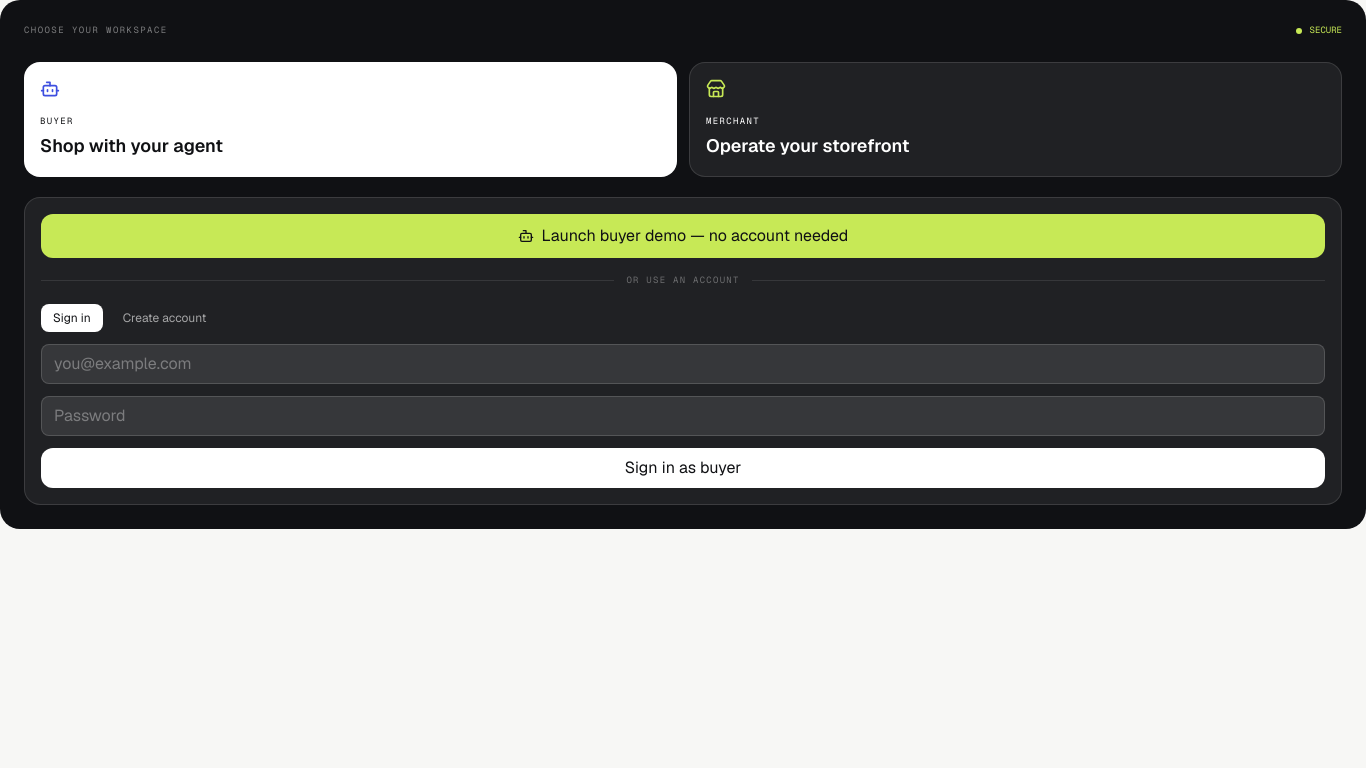
Test case: workspace authentication › opens the explicit passkey challenge when passkey status is unavailable
This screenshot has width=1366, height=768.
Type "buyer@example.com" into the field named "Email". click: (683, 364)
box: x1=41 y1=344 x2=1325 y2=384
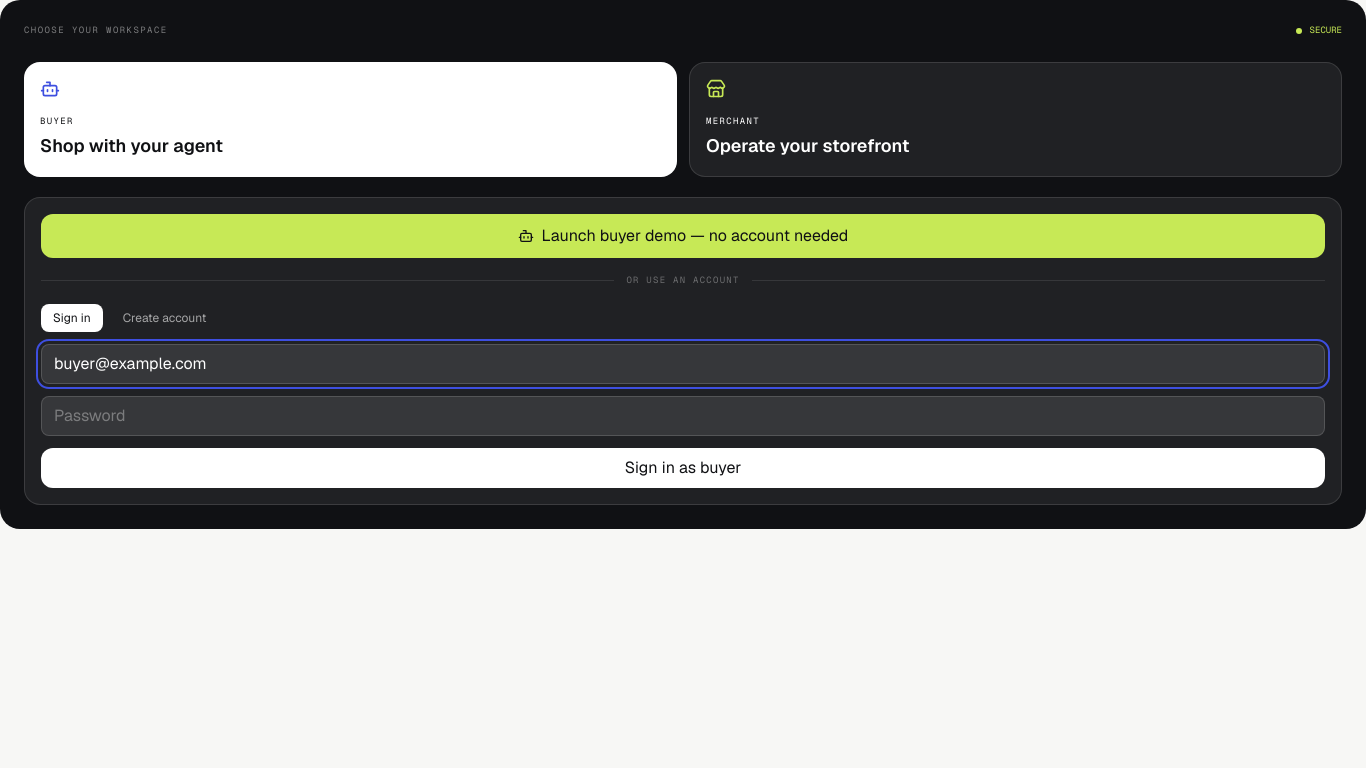
Type "password123" into the password field labelled "Password". click: (683, 416)
box: x1=41 y1=396 x2=1325 y2=436
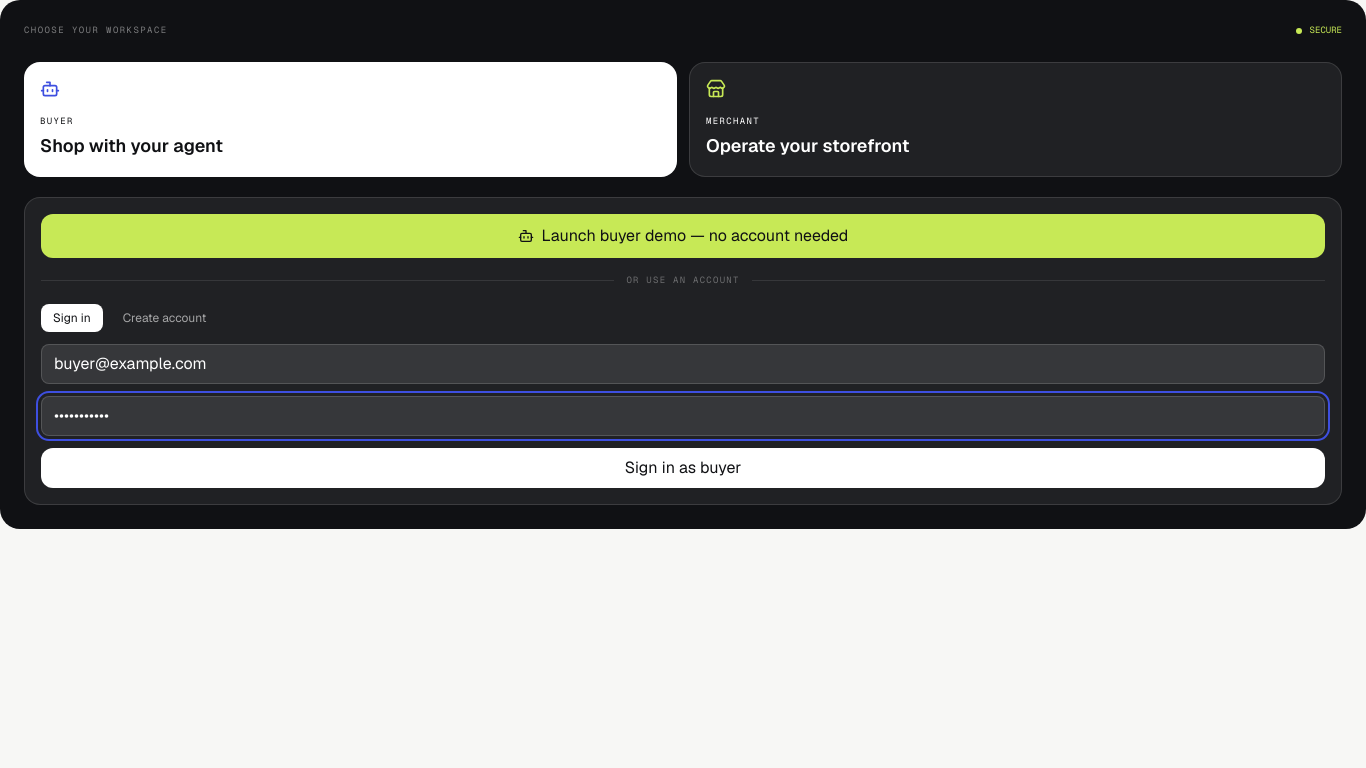
Click the button "Sign in as buyer". click: (683, 468)
box: x1=41 y1=448 x2=1325 y2=488
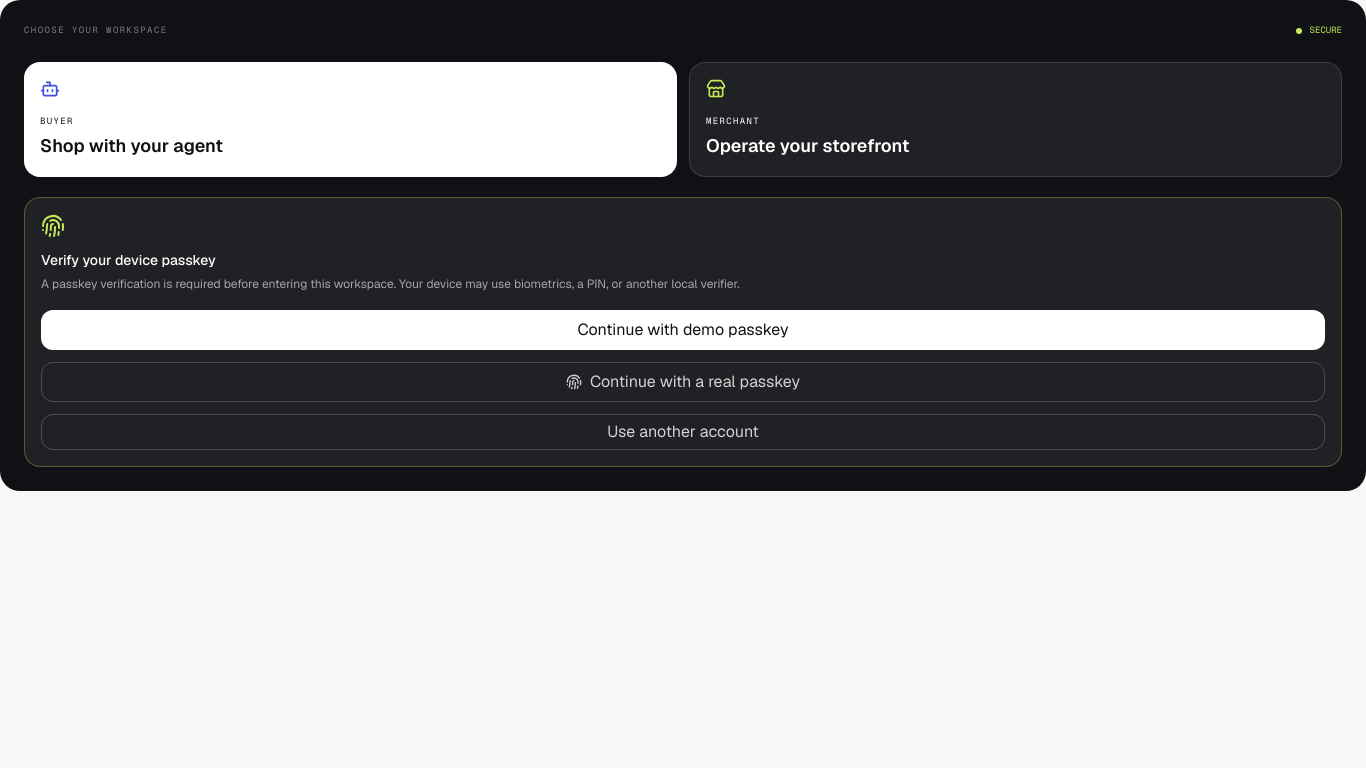
Now the button "Continue with a real passkey" is shown, box x1=41 y1=362 x2=1325 y2=402
